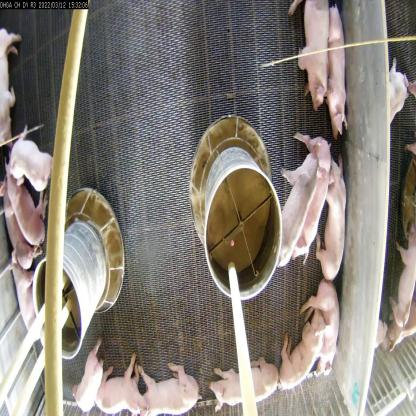Pig: (273, 151, 324, 267), (288, 134, 333, 251), (314, 154, 349, 297), (0, 166, 54, 253), (320, 5, 352, 124), (296, 0, 329, 108), (126, 368, 194, 415), (93, 352, 142, 415), (216, 359, 276, 409), (307, 282, 341, 368), (281, 320, 325, 384), (65, 359, 110, 415), (12, 139, 50, 194)
